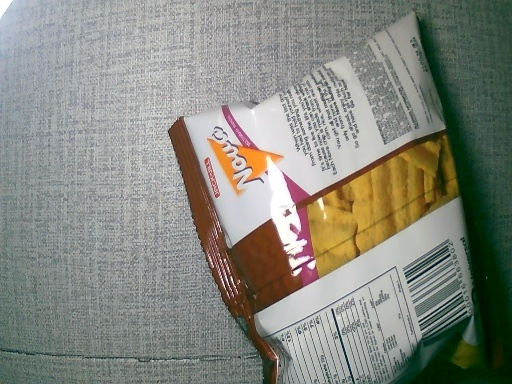plastic: (169, 12, 488, 384)
